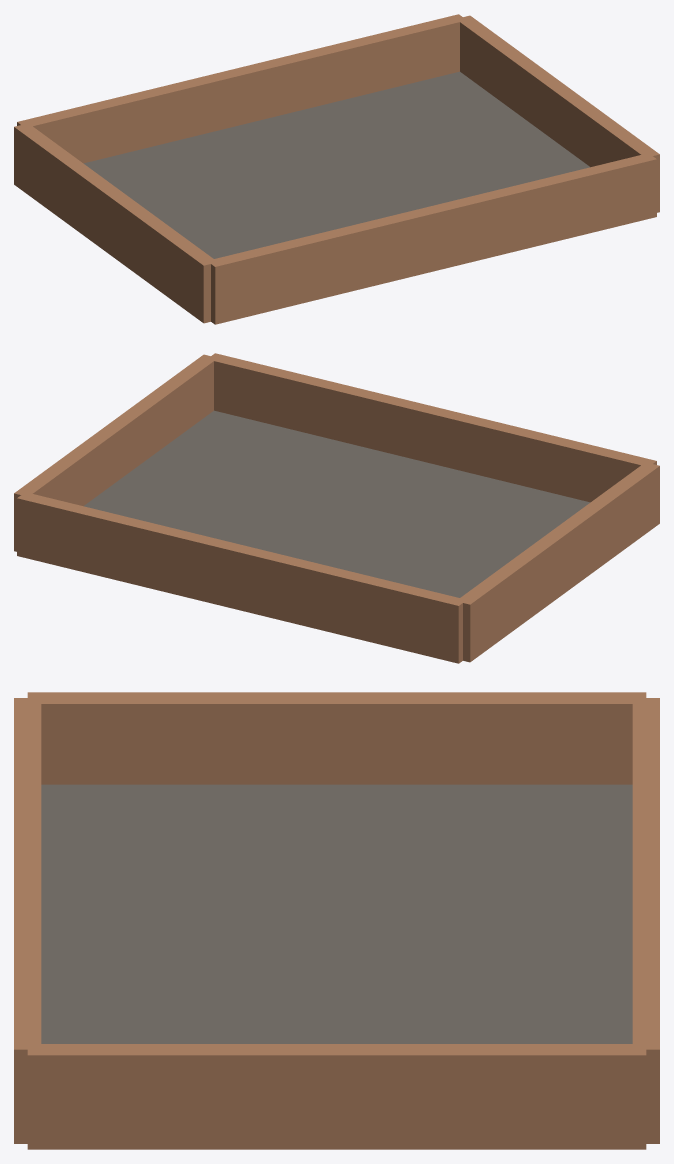
3 views of the same model, one above another, from view 1: azimuth 30°, elevation 25°; view 2: azimuth 150°, elevation 25°; view 3: azimuth 270°, elevation 25° (orthographic). The views are drawn at different scales.
Parts seen in each view (by area): view 1: QH-A0076_V02_geometry; view 2: QH-A0076_V02_geometry; view 3: QH-A0076_V02_geometry.
Boxes of the visible parts, <box> form: QH-A0076_V02_geometry: <box>14,14,659,324</box>; QH-A0076_V02_geometry: <box>14,353,659,663</box>; QH-A0076_V02_geometry: <box>14,692,659,1149</box>.
Size of the model in its own units: 6.94 by 0.84 by 5.22.
